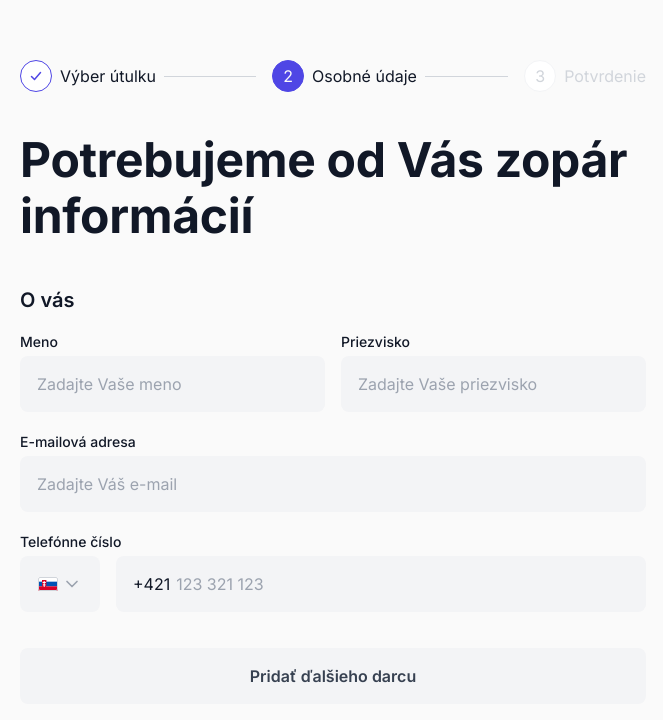
Test case: Step2 › multiple donors › clicking "Pridať ďalšieho darcu" appends a second donor fieldset and focuses its first input
Check: the field labelled "Meno" is shown, box [20,356,325,412]
Click the button "Pridať ďalšieho darcu".
click(333, 676)  # box [20,648,646,704]
(page scrolled)
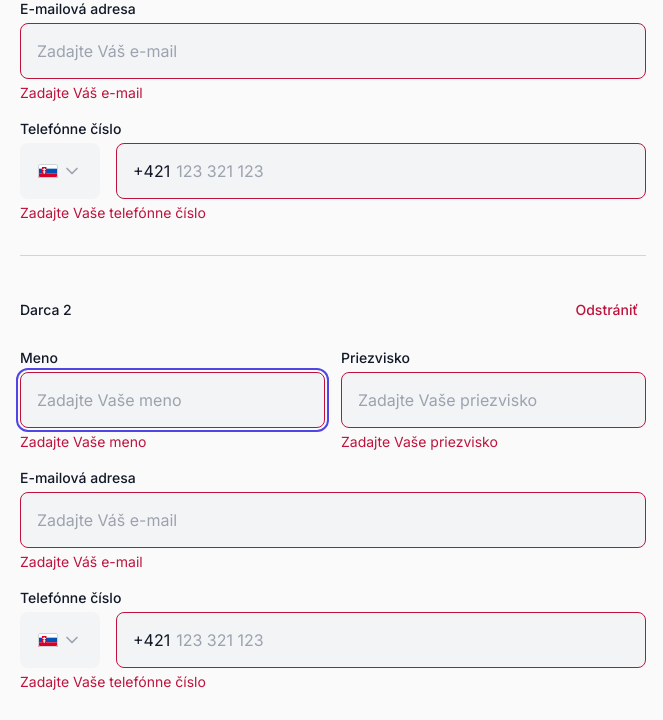
Check: the heading "Darca 2" is shown, box [20,300,72,320]
Check: the button with aria-label "Odstrániť darcu 2" is shown, box [568,288,646,332]
